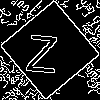Z: (25, 25, 60, 74)
